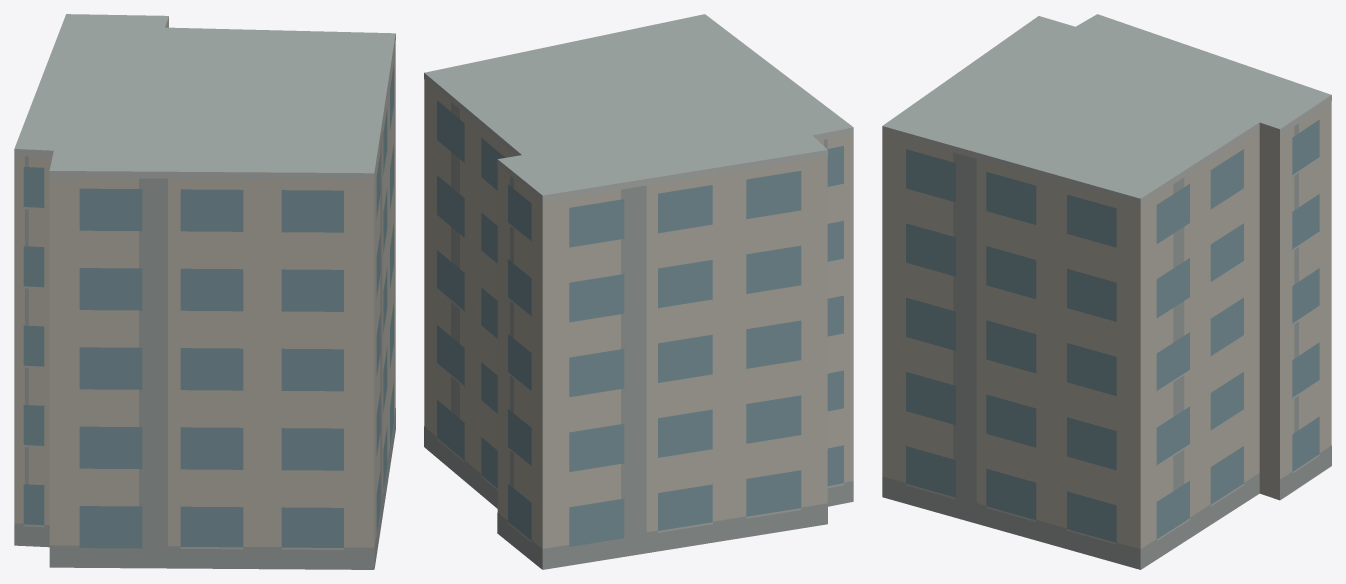
File: survey-upis-32823281.glb
3 renders of one model, left to right at view 1: azimuth 30°, elevation 25°; view 2: azimuth 150°, elevation 25°; view 3: azimuth 270°, elevation 25°, orthographic. The views are drawn at different scales.
Parts seen in each view (by area): view 1: survey-upis-32823281.tmp; view 2: survey-upis-32823281.tmp; view 3: survey-upis-32823281.tmp.
Part boxes in pixels (<box>): survey-upis-32823281.tmp: <box>14,14,395,569</box>; survey-upis-32823281.tmp: <box>424,14,853,569</box>; survey-upis-32823281.tmp: <box>882,14,1331,569</box>.
Size of the model in its own units: 14.79 by 13.85 by 15.21.
